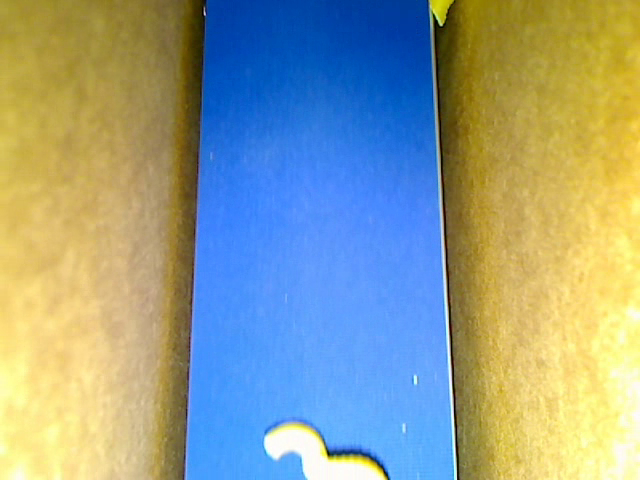elbow: (261, 419, 329, 475)
